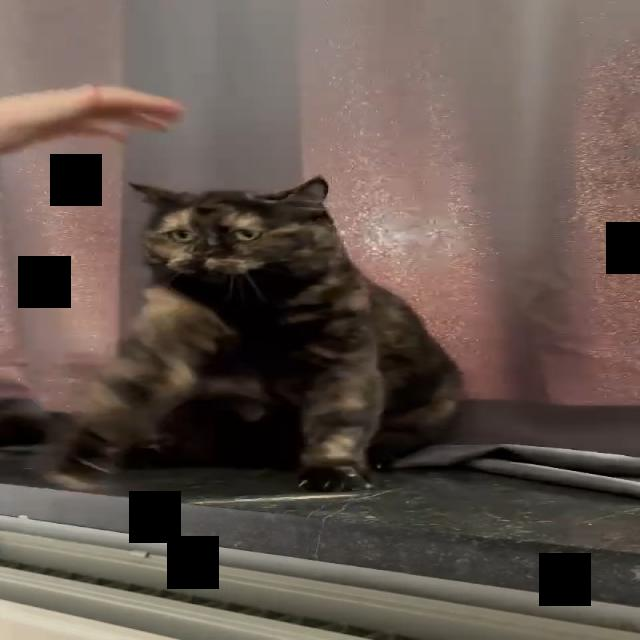authorized: (39, 173, 465, 492)
